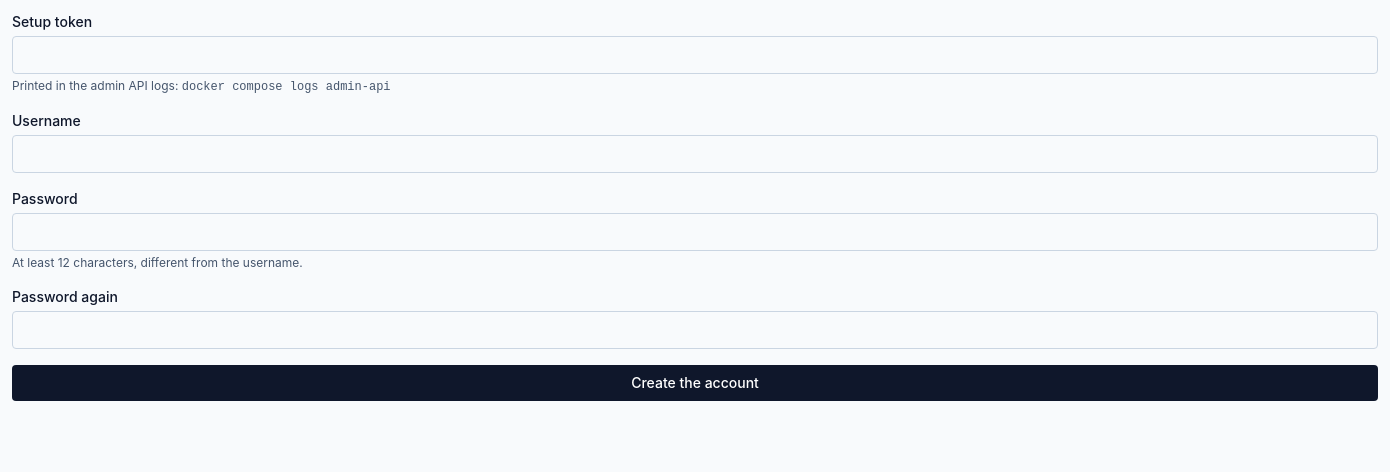
Test: SetupForm › translates a wrong setup token
The width and height of the screenshot is (1390, 472).
Step 1. Type "setup-token" into the field labelled "Setup token" → [695, 55], box top-left (12, 36), bottom-right (1378, 74)
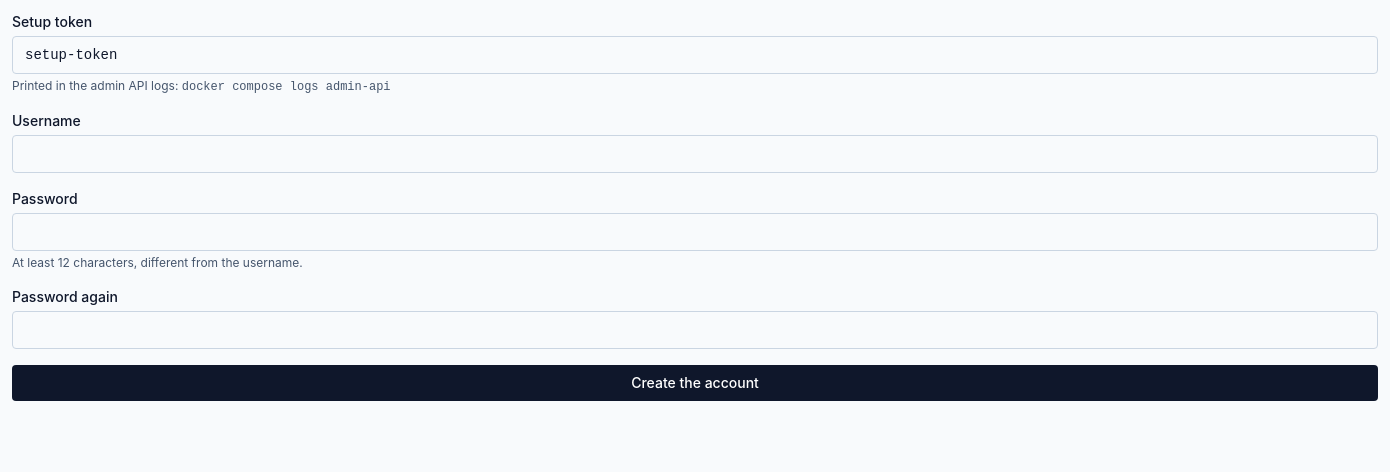
Step 2. Type "alice" into the field labelled "Username" → [695, 154], box top-left (12, 135), bottom-right (1378, 173)
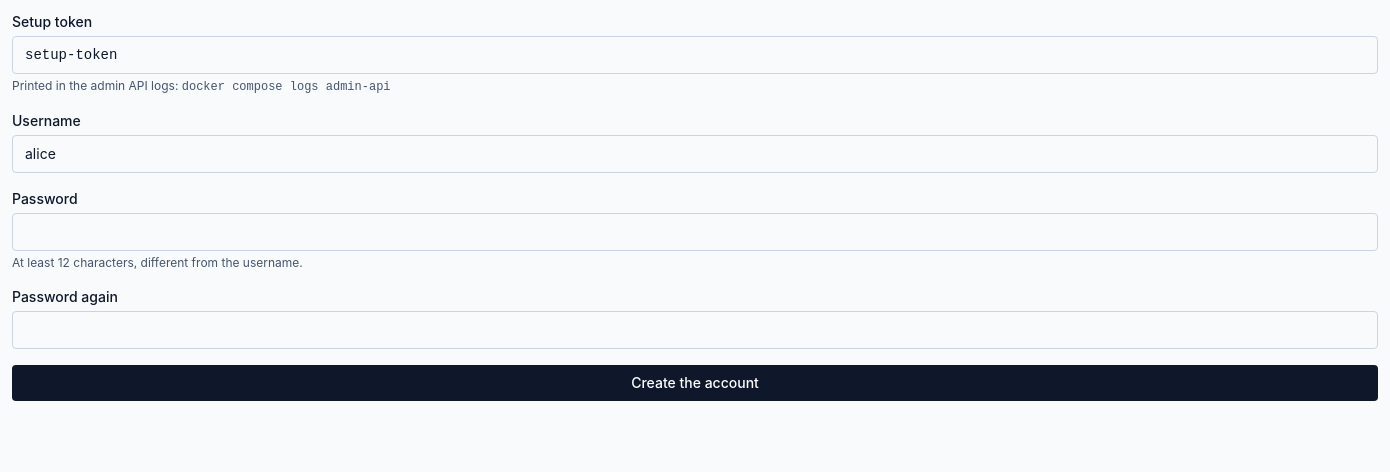
Step 3. Type "correct horse battery" into the password field labelled "Password" → [695, 232], box top-left (12, 213), bottom-right (1378, 251)
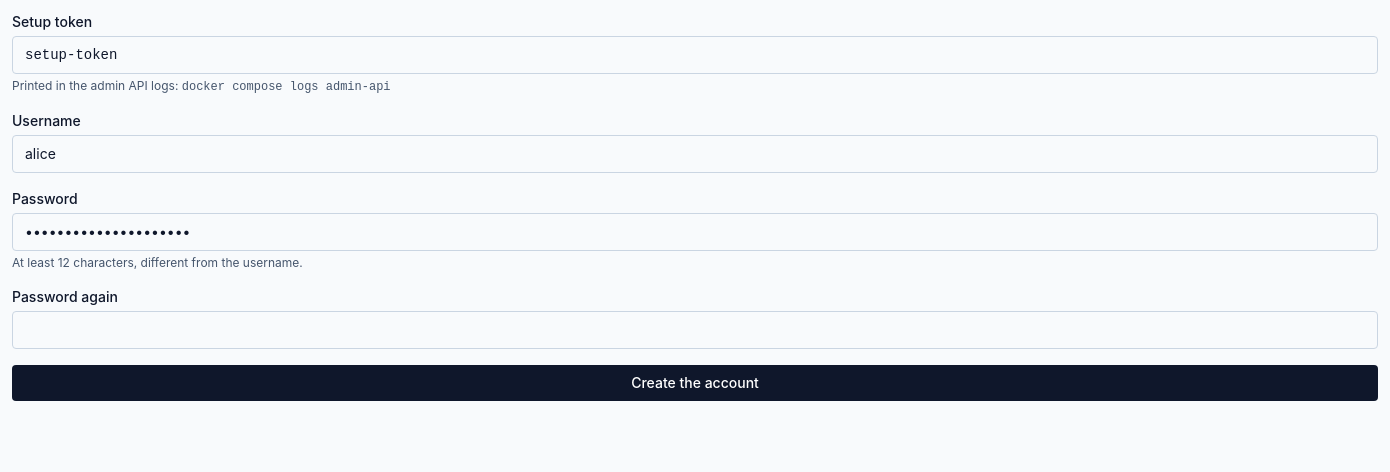
Step 4. Type "correct horse battery" into the password field labelled "Password again" → [695, 330], box top-left (12, 311), bottom-right (1378, 349)
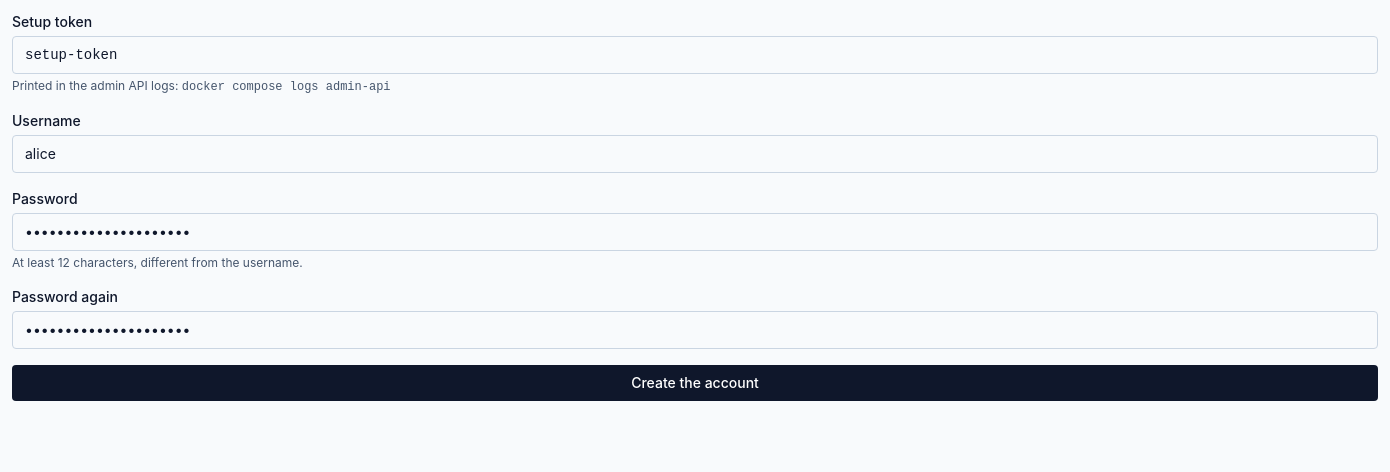
Step 5. Click the button "Create the account" → [695, 383], box top-left (12, 365), bottom-right (1378, 401)
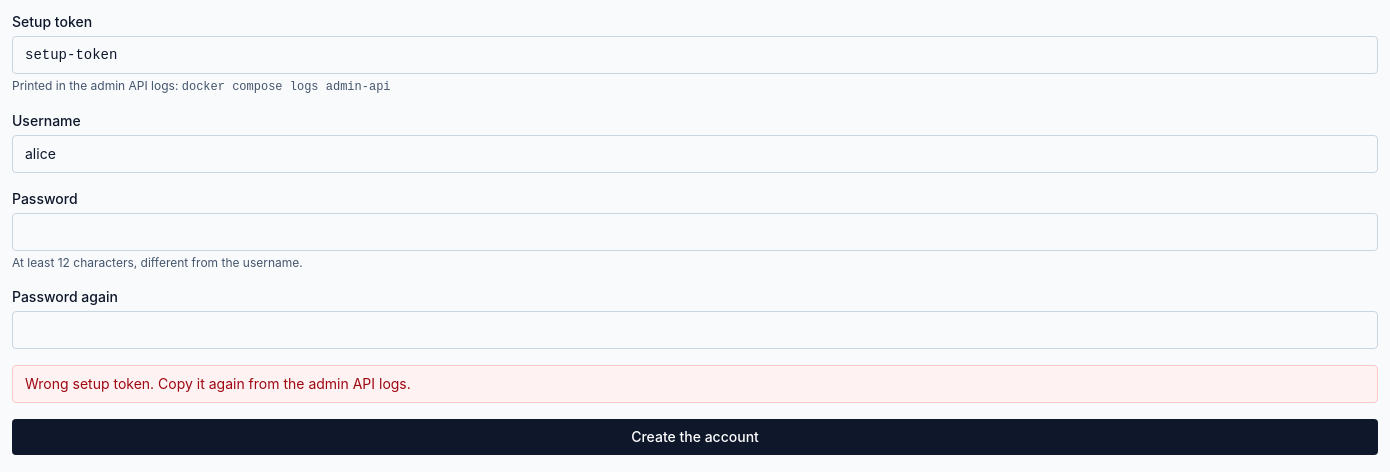
Expected: the message shows "Wrong setup token.", top-left (25, 375), bottom-right (411, 392)
